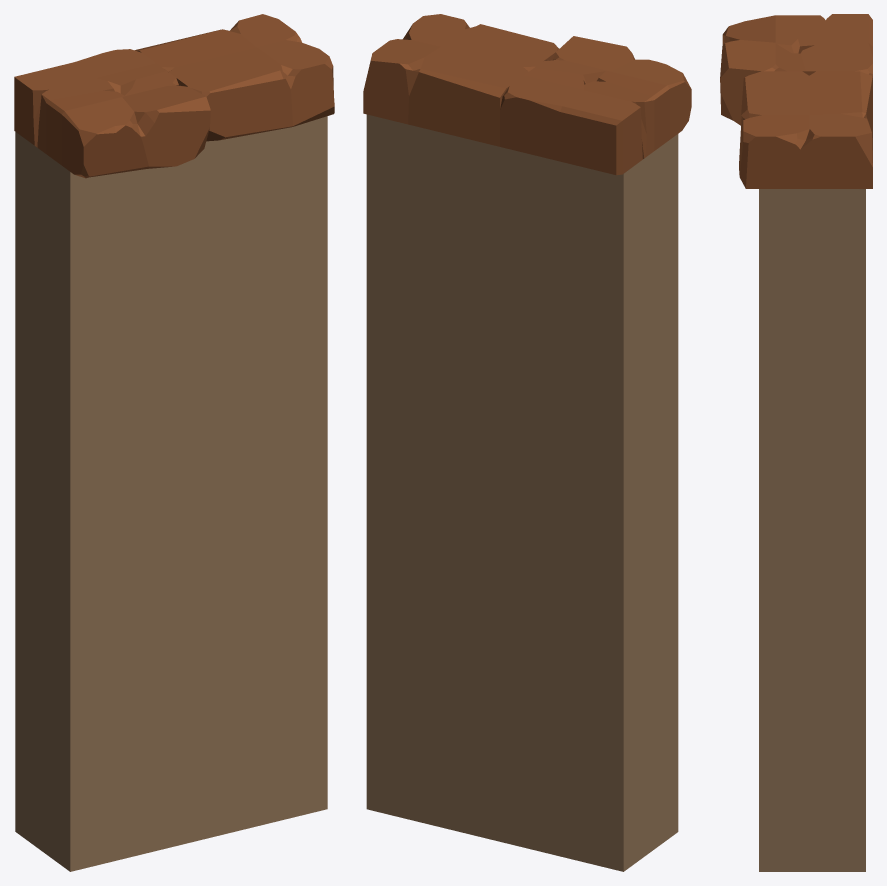
File: duvar4.fbx
The picture shows the model from 3 angles, left to right: view 1: azimuth 30°, elevation 25°; view 2: azimuth 150°, elevation 25°; view 3: azimuth 270°, elevation 25°; orthographic projection. The views are drawn at different scales.
Visible parts, largest first — view 1: duvar4; view 2: duvar4; view 3: duvar4.
Boxes of the visible parts, x1,y1,x2,y2 form: duvar4: (14,14,334,871); duvar4: (363,14,691,871); duvar4: (720,14,872,871).
Size of the model in its own units: 1 by 2.81 by 0.5273.
Materials: 1 (1 with a texture image).
